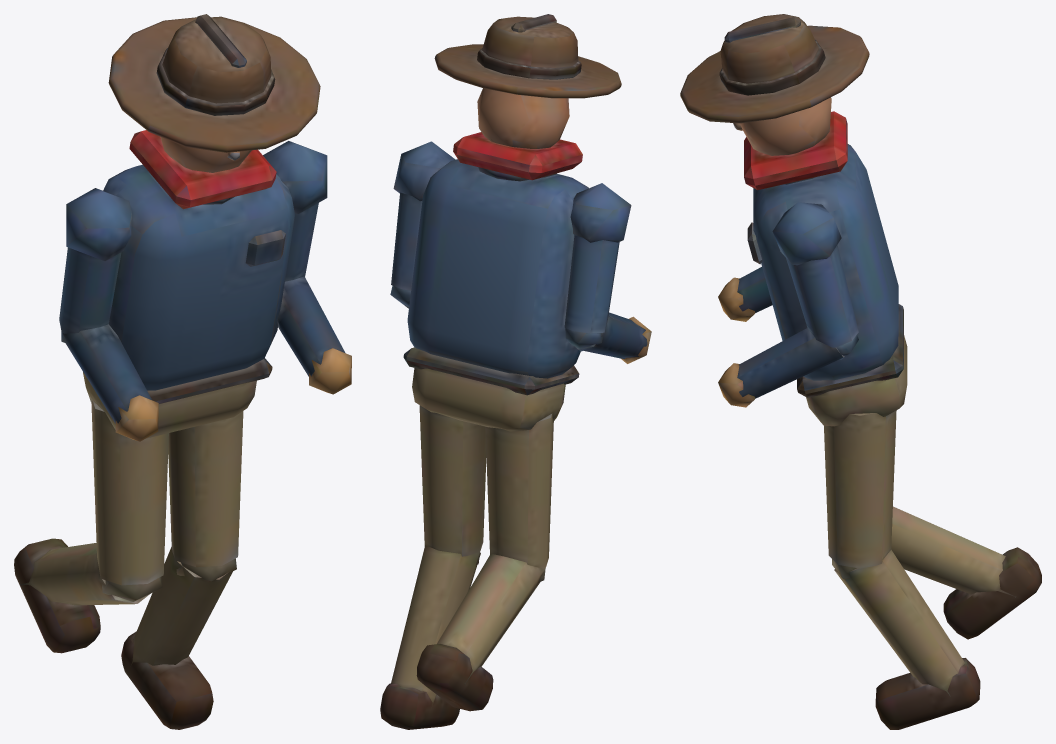
Rendered from farmer_run_2.glb.
3 renders of one model, left to right at view 1: azimuth 30°, elevation 25°; view 2: azimuth 150°, elevation 25°; view 3: azimuth 270°, elevation 25°, orthographic. The views are drawn at different scales.
Parts seen in each view (by area): view 1: farmer_run_2; view 2: farmer_run_2; view 3: farmer_run_2.
Part boxes in pixels (bbox=[...]): farmer_run_2: bbox=[14, 14, 351, 729]; farmer_run_2: bbox=[380, 14, 651, 729]; farmer_run_2: bbox=[680, 14, 1041, 729].
Bounding box in the file's own units: 0.6899 × 1.96 × 0.9286.
1 material, 1 textured.
